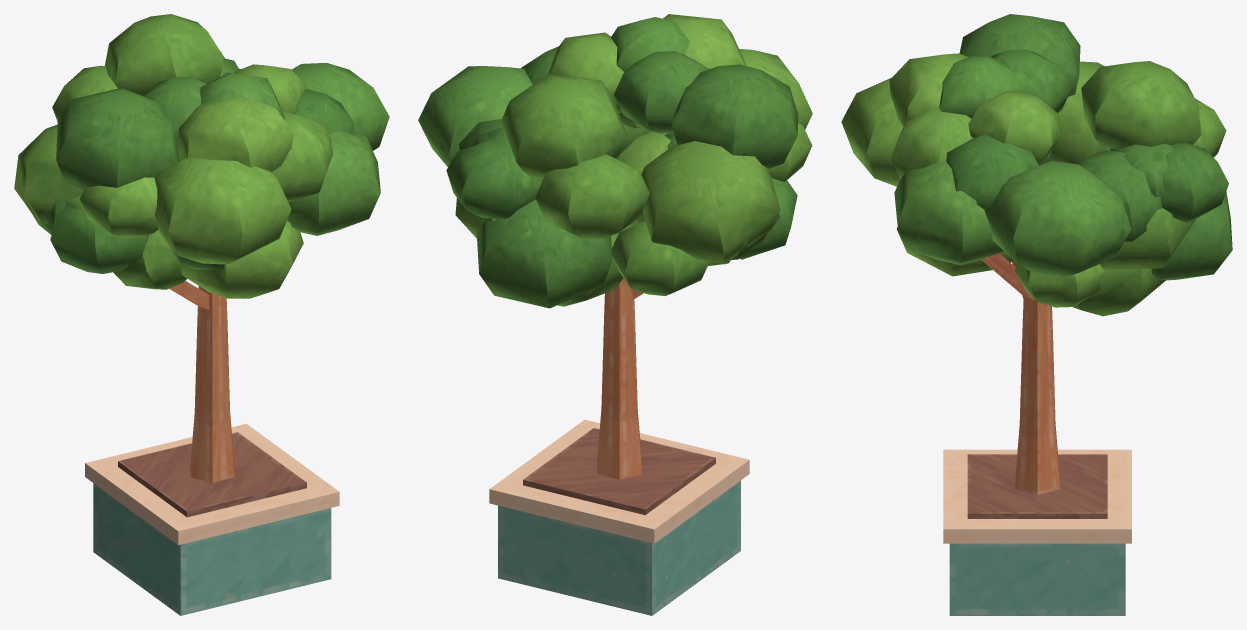
The model's file is tree_low.fbx.
The picture shows the model from 3 angles, left to right: view 1: azimuth 30°, elevation 25°; view 2: azimuth 150°, elevation 25°; view 3: azimuth 270°, elevation 25°; orthographic projection. The views are drawn at different scales.
Visible parts, largest first — view 1: tree; view 2: tree; view 3: tree.
Part boxes in pixels (<box>): tree: <box>14,14,389,615</box>; tree: <box>418,14,812,615</box>; tree: <box>841,14,1232,615</box>.
Size of the model in its own units: 7.78 by 10.98 by 7.56.
Materials: 1 (1 with a texture image).
